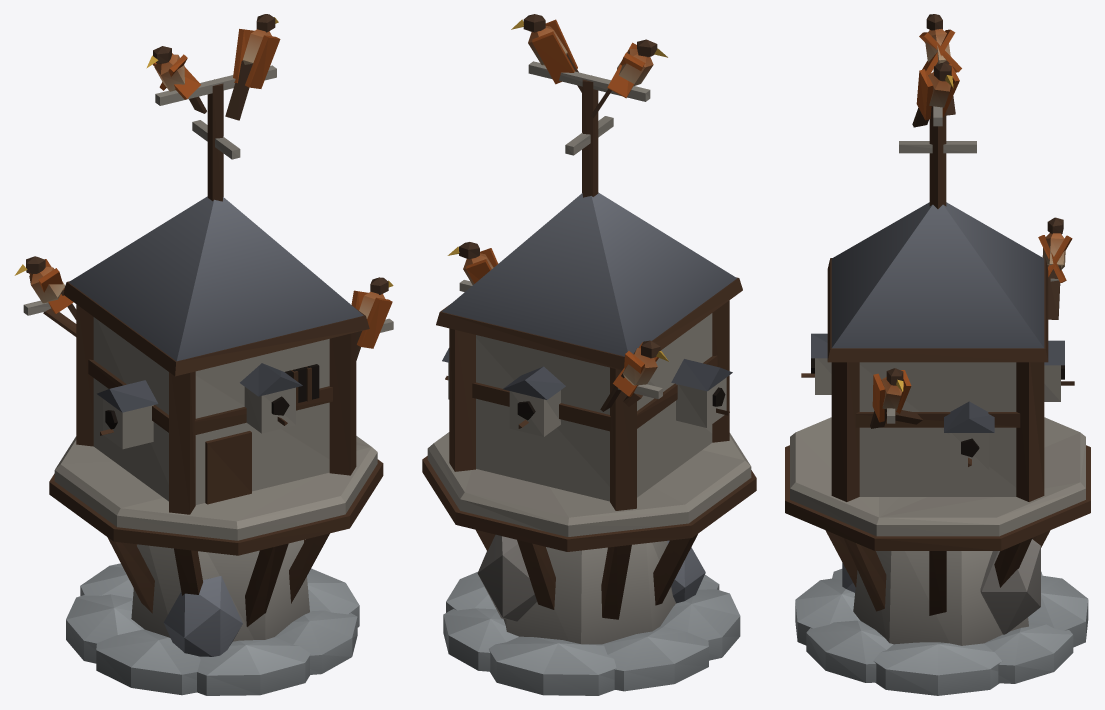
Rendered from kestrel_flock.glb.
The picture shows the model from 3 angles, left to right: view 1: azimuth 30°, elevation 25°; view 2: azimuth 150°, elevation 25°; view 3: azimuth 270°, elevation 25°; orthographic projection.
Parts seen in each view (by area): view 1: kestrel_flock; view 2: kestrel_flock; view 3: kestrel_flock.
Part boxes in pixels (x1,y1,x2,y2): kestrel_flock: [14, 14, 393, 695]; kestrel_flock: [422, 14, 756, 695]; kestrel_flock: [785, 14, 1090, 695].
Size of the model in its own units: 0.8738 by 1.71 by 0.7834.
